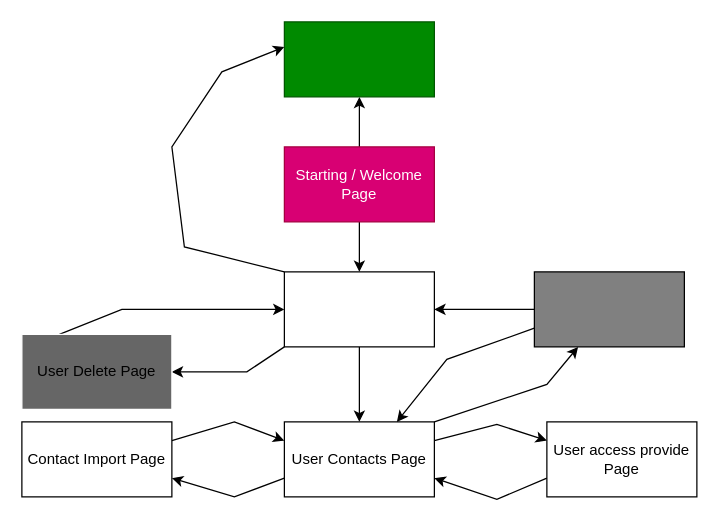
Some shapes in this 719 by 531 pixel diagram are drawn without their labels. Each missing label, with the centre of its shape:
"Commit Changes to Page (only changes to the conact list)" goes at (608,309).
"Ending / Goodbye Page" goes at (358,59).
"User Login Page" goes at (358,309).
